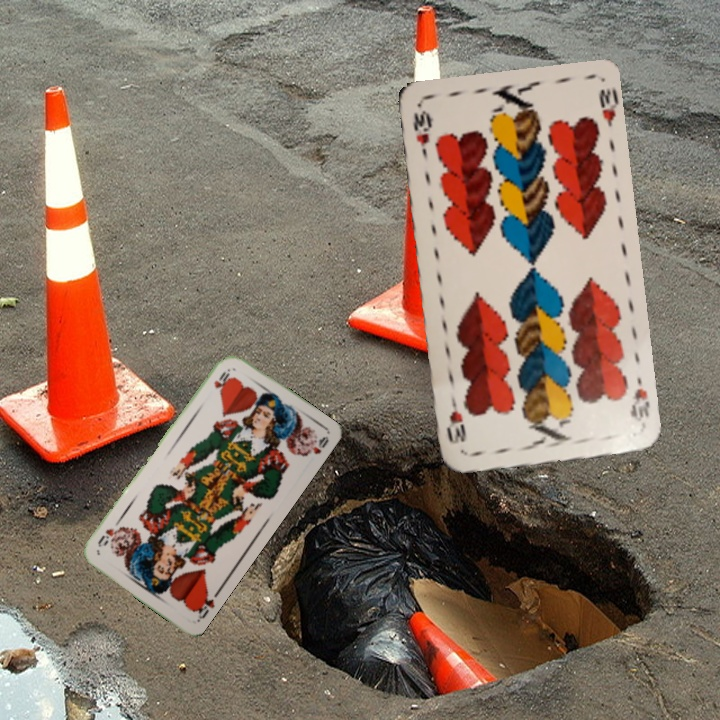H10: (626, 373, 653, 424), (409, 106, 433, 162)
HO: (189, 588, 217, 623), (209, 364, 233, 391)
